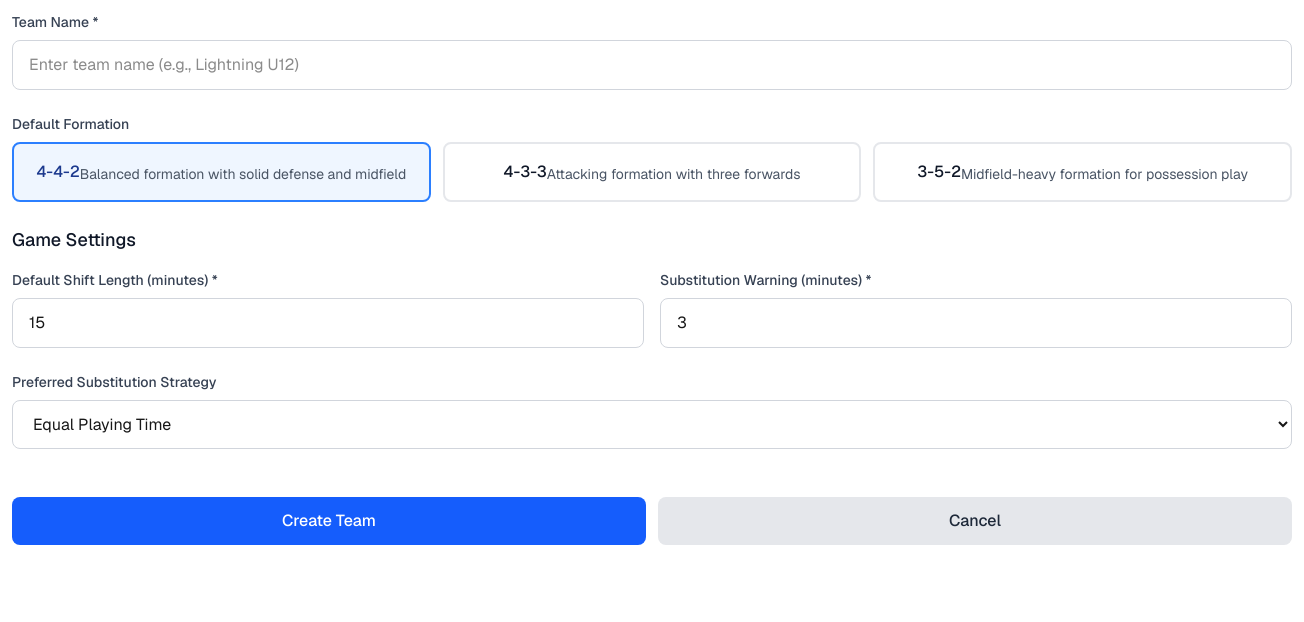
it: TeamSetup Component › TeamForm Component › should validate shift length range
This screenshot has width=1304, height=622.
Click the number field labelled "Default Shift Length (minutes) *" at (328, 323), box [12,298,644,348]
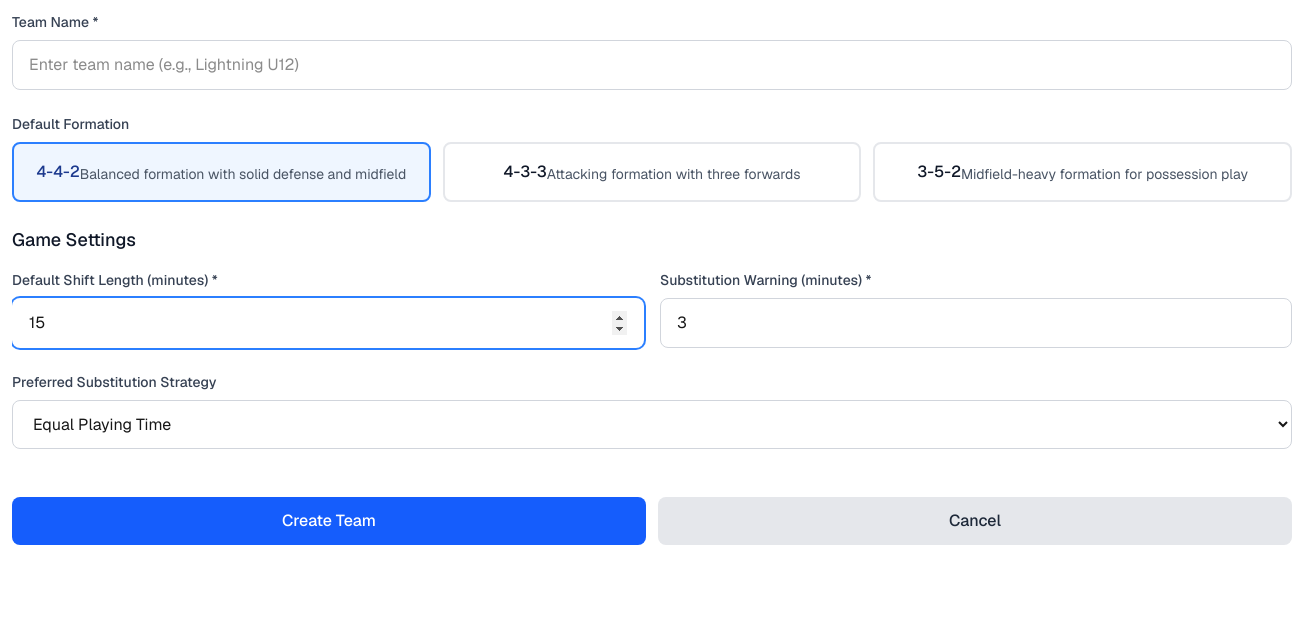
Type keys "3"
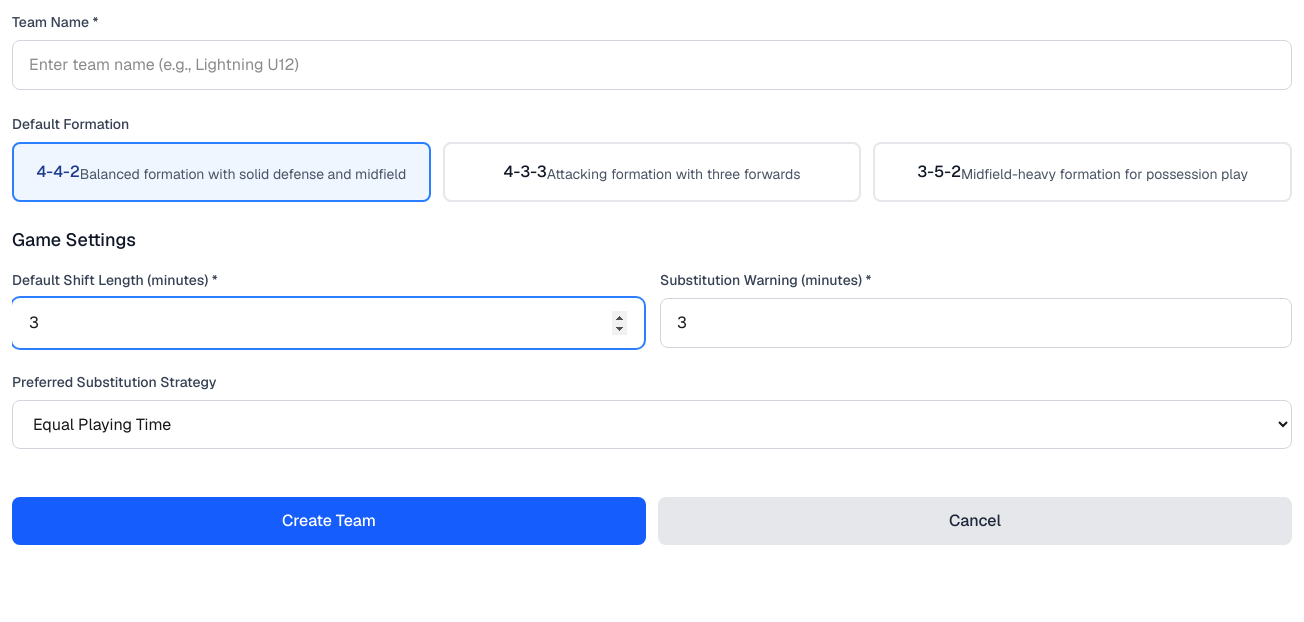
Click the button "Create Team" at (329, 521), box [12,497,646,545]
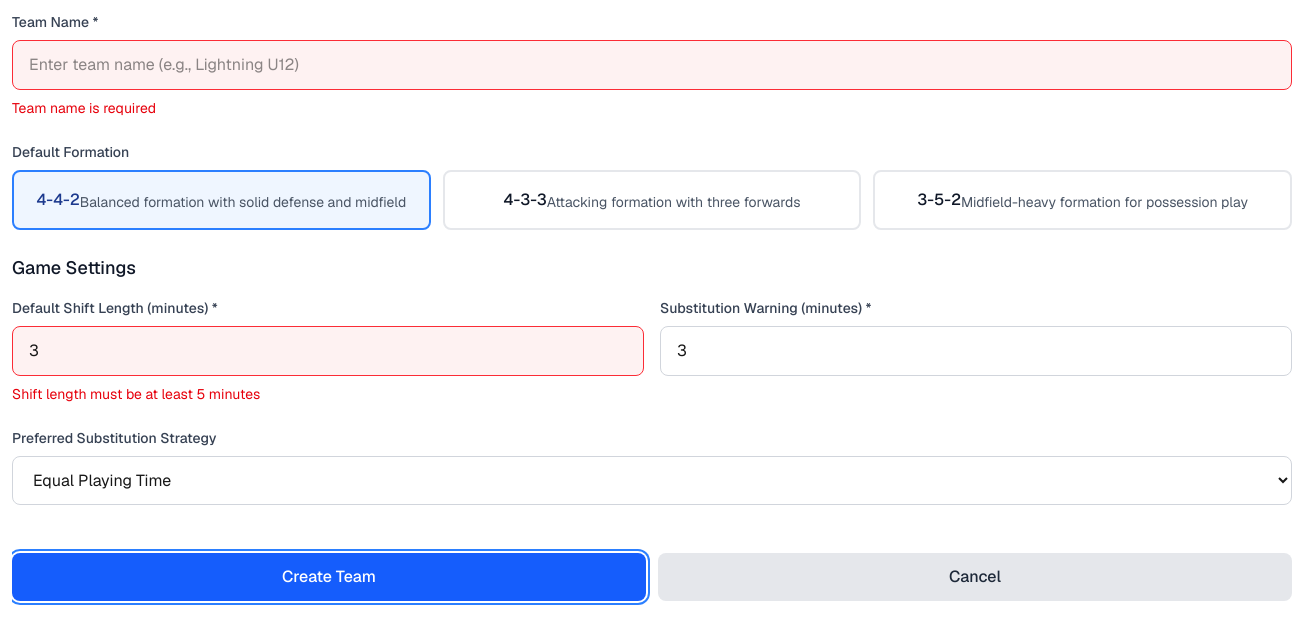
Expected: the text "Shift length must be at least 5 minutes" is shown, [12,385,260,403]
